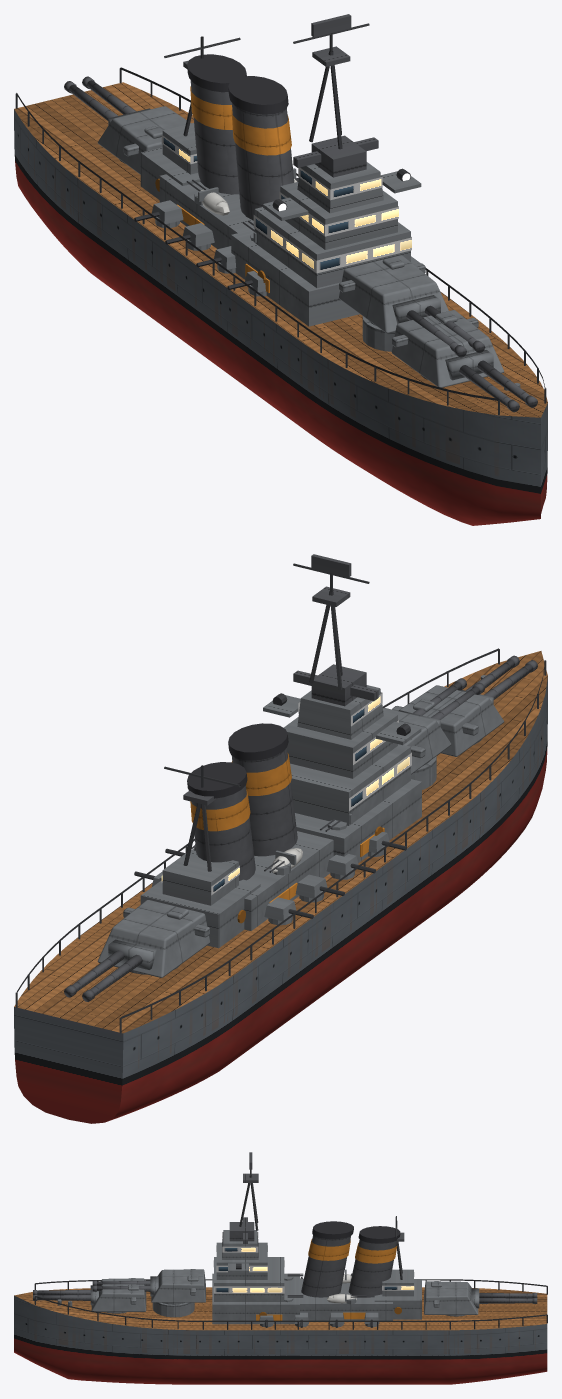
The model's file is battleship.gltf.
3 views of the same model, one above another, from view 1: azimuth 30°, elevation 25°; view 2: azimuth 150°, elevation 25°; view 3: azimuth 270°, elevation 25° (orthographic). The views are drawn at different scales.
Parts seen in each view (by area): view 1: battleship_hull, TURRET_B, TURRET_A, TURRET_C, GUN_A, GUN_B, GUN_C, battleship_barbette; view 2: battleship_hull, TURRET_C, TURRET_A, GUN_C, TURRET_B, GUN_A, GUN_B; view 3: battleship_hull, TURRET_B, TURRET_C, TURRET_A, GUN_C, GUN_A, GUN_B, battleship_barbette.
Boxes of the visible parts, bbox=[...] form: battleship_hull: bbox=[14, 14, 547, 525]; TURRET_B: bbox=[339, 255, 448, 333]; TURRET_A: bbox=[391, 310, 504, 387]; TURRET_C: bbox=[97, 106, 191, 174]; GUN_A: bbox=[445, 350, 537, 412]; GUN_B: bbox=[392, 295, 484, 357]; GUN_C: bbox=[64, 76, 150, 125]; battleship_barbette: bbox=[362, 316, 395, 351]; battleship_hull: bbox=[14, 554, 547, 1123]; TURRET_C: bbox=[97, 900, 210, 977]; TURRET_A: bbox=[392, 685, 504, 756]; GUN_C: bbox=[64, 939, 156, 1001]; TURRET_B: bbox=[383, 708, 451, 774]; GUN_A: bbox=[460, 655, 537, 704]; GUN_B: bbox=[398, 678, 484, 727]; battleship_hull: bbox=[14, 1152, 547, 1384]; TURRET_B: bbox=[151, 1269, 205, 1304]; TURRET_C: bbox=[424, 1281, 478, 1316]; TURRET_A: bbox=[91, 1278, 146, 1313]; GUN_C: bbox=[471, 1288, 537, 1308]; GUN_A: bbox=[33, 1285, 98, 1305]; GUN_B: bbox=[92, 1276, 158, 1296]; battleship_barbette: bbox=[152, 1302, 194, 1317].
Bounding box in the file's own units: 3.3 × 6.86 × 15.22.
9 materials, 7 textured.
